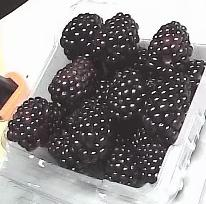berry: (143, 73, 191, 145), (148, 21, 192, 75), (91, 12, 138, 61), (48, 57, 96, 103), (7, 97, 48, 150), (72, 102, 112, 154), (107, 68, 146, 121), (60, 13, 102, 59), (130, 128, 167, 180), (106, 135, 139, 186), (49, 136, 88, 169)
